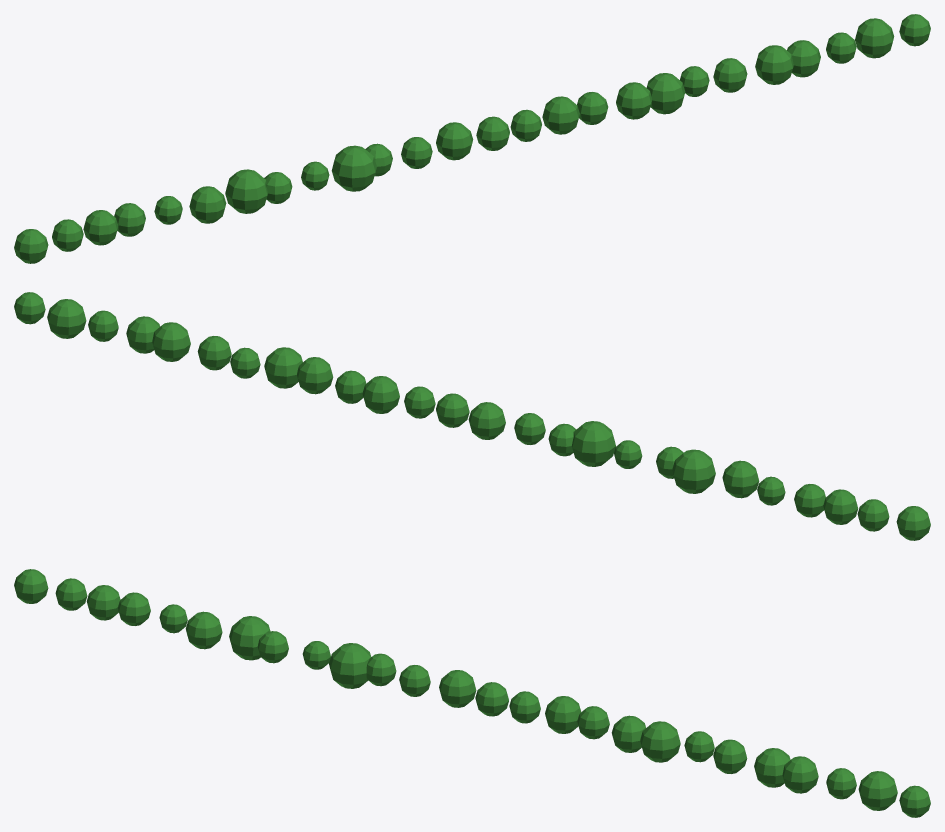
Rendered from HokageTopTrees.fbx.
3 renders of one model, top to bottom at view 1: azimuth 30°, elevation 25°; view 2: azimuth 150°, elevation 25°; view 3: azimuth 330°, elevation 25°, orthographic.
Parts seen in each view (by area): view 1: TopTree0.001; view 2: TopTree0.001; view 3: TopTree0.001.
Boxes of the visible parts, <box> form: TopTree0.001: <box>14,14,930,263</box>; TopTree0.001: <box>14,292,930,540</box>; TopTree0.001: <box>14,569,930,817</box>.
Size of the model in its own units: 29008 by 1276 by 1435.
